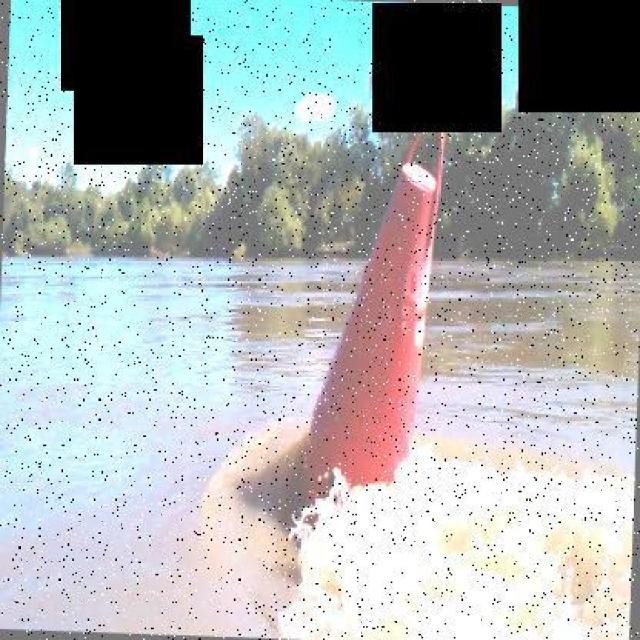Red Buoy: (295, 168, 434, 486)
